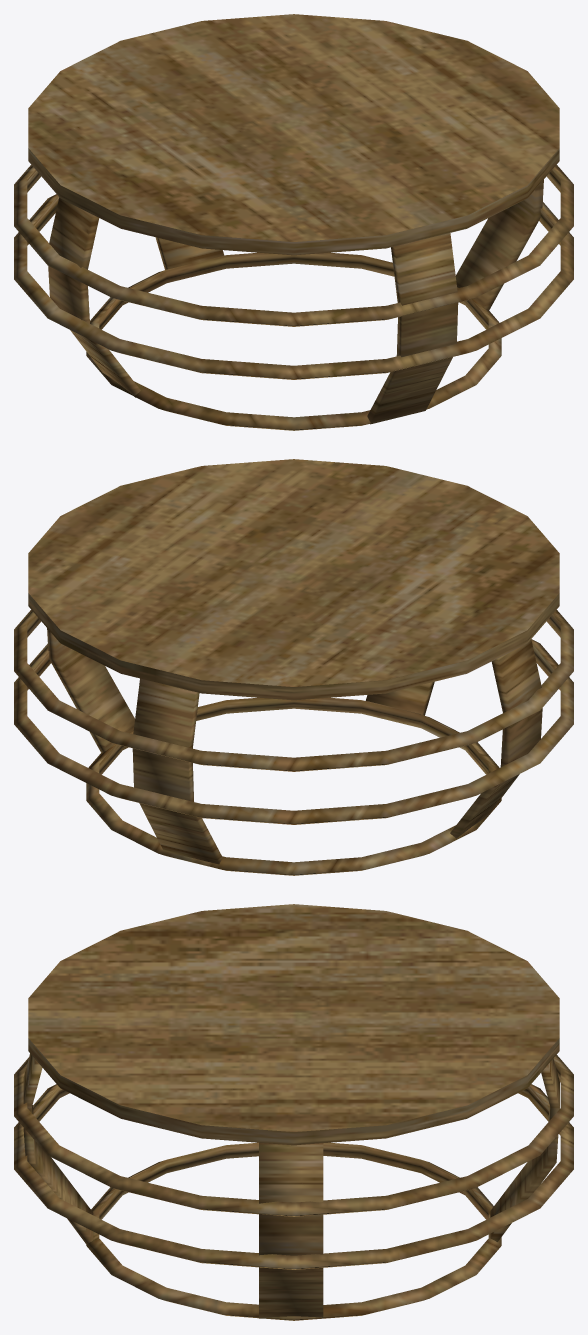
Rendered from coffee_low_2.obj.
3 renders of one model, top to bottom at view 1: azimuth 30°, elevation 25°; view 2: azimuth 150°, elevation 25°; view 3: azimuth 270°, elevation 25°, orthographic.
Parts seen in each view (by area): view 1: COFFEE_LOW_2; view 2: COFFEE_LOW_2; view 3: COFFEE_LOW_2.
Part boxes in pixels (left/top/right/bottom): COFFEE_LOW_2: left=14, top=14, right=573, bottom=430; COFFEE_LOW_2: left=14, top=459, right=573, bottom=875; COFFEE_LOW_2: left=14, top=904, right=573, bottom=1320.
Bounding box in the file's own units: 1.17 × 0.4956 × 1.15.
